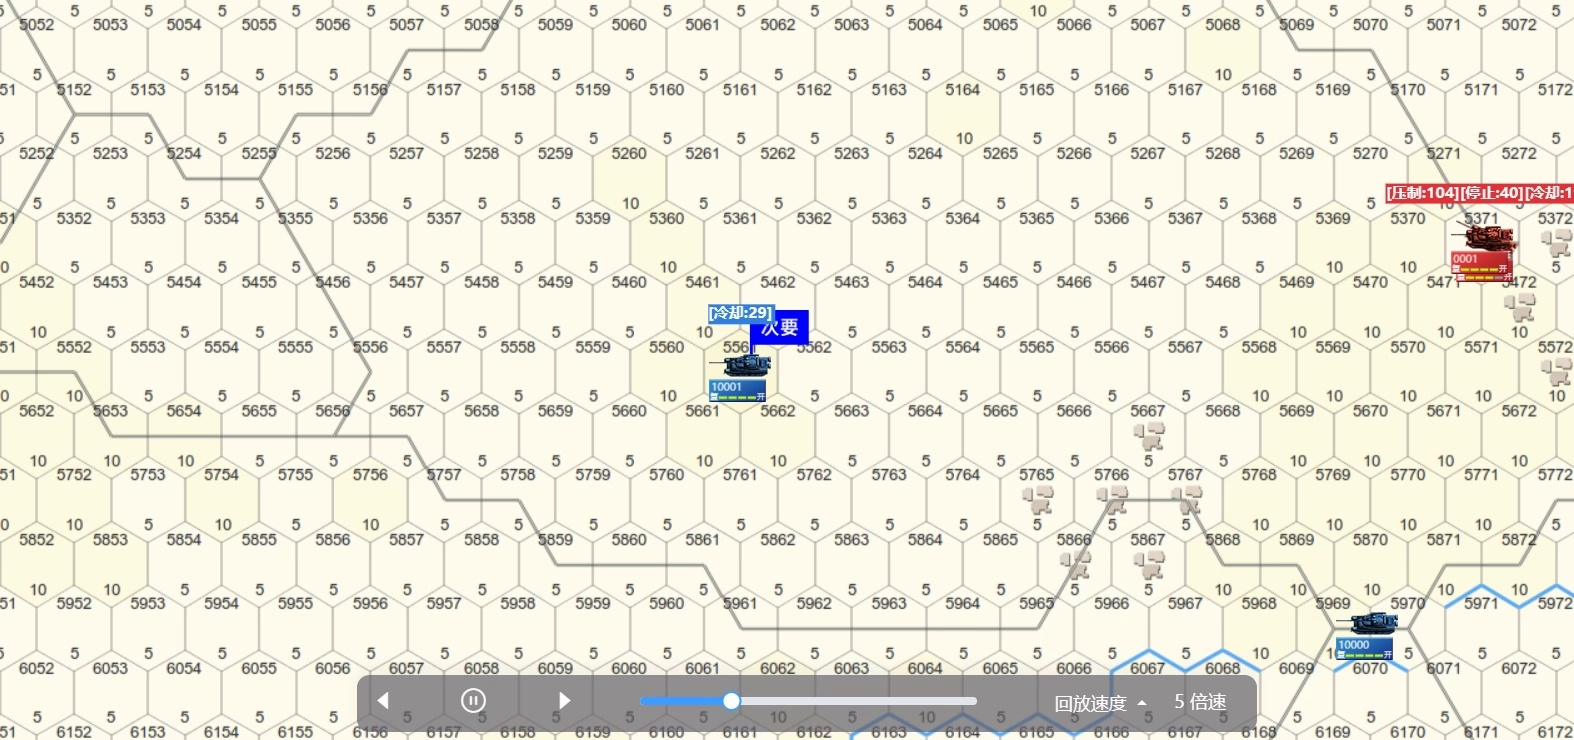blue_tank: (1334, 612, 1403, 664), (711, 358, 772, 400)
red_tank: (1456, 232, 1518, 282)
